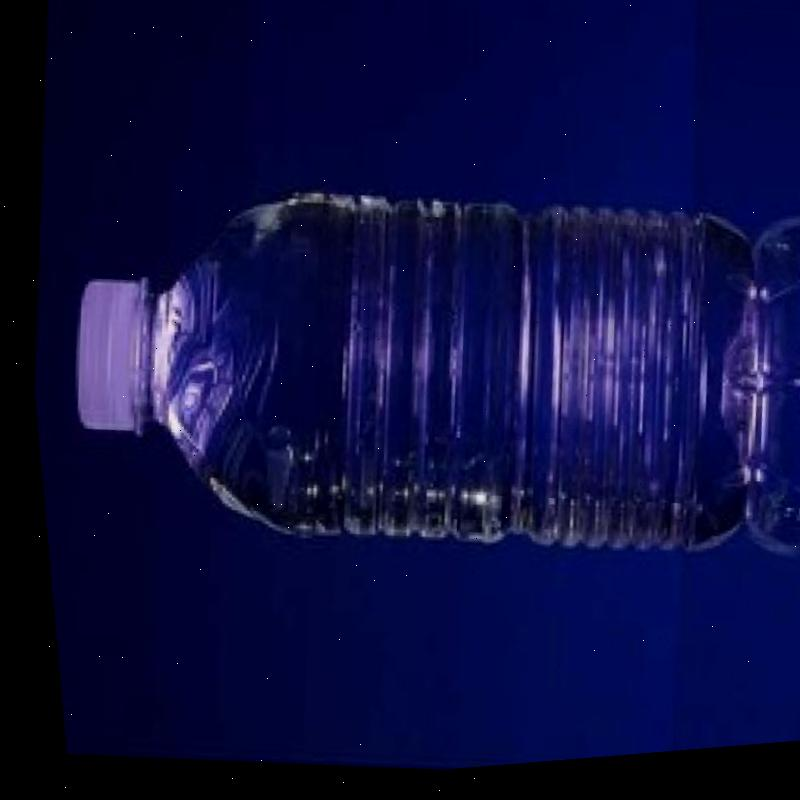botella: (35, 135, 796, 614)
